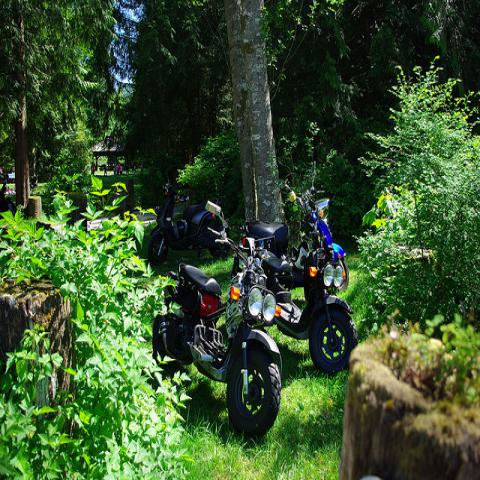motorcycle: (154, 197, 291, 442), (252, 185, 355, 372), (148, 171, 230, 265)
